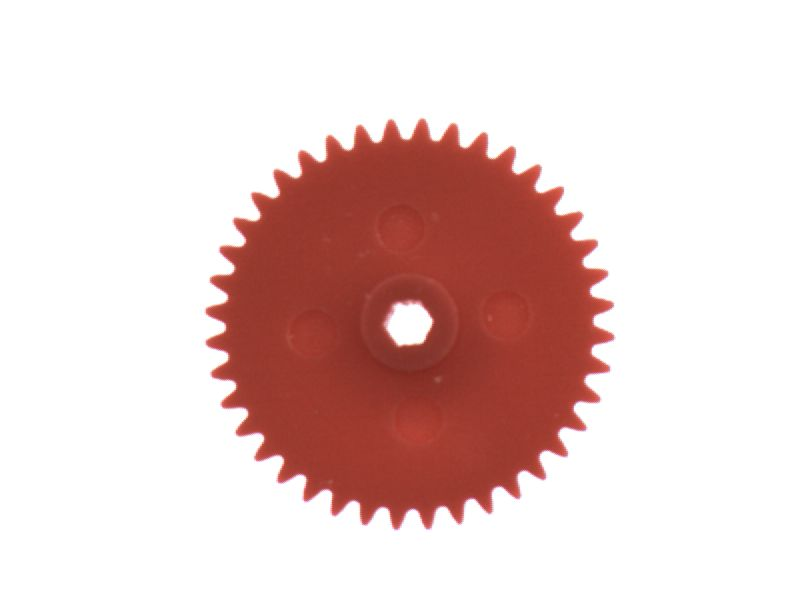good_product: (190, 107, 624, 548)
